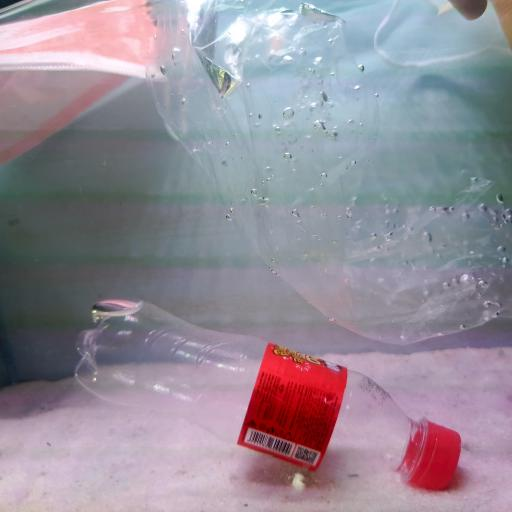bottle_cap: (404, 414, 465, 494)
mask: (0, 0, 166, 177), (188, 6, 492, 99)
plastic_bag: (151, 0, 511, 351)
plastic_bottle: (74, 284, 460, 496)
